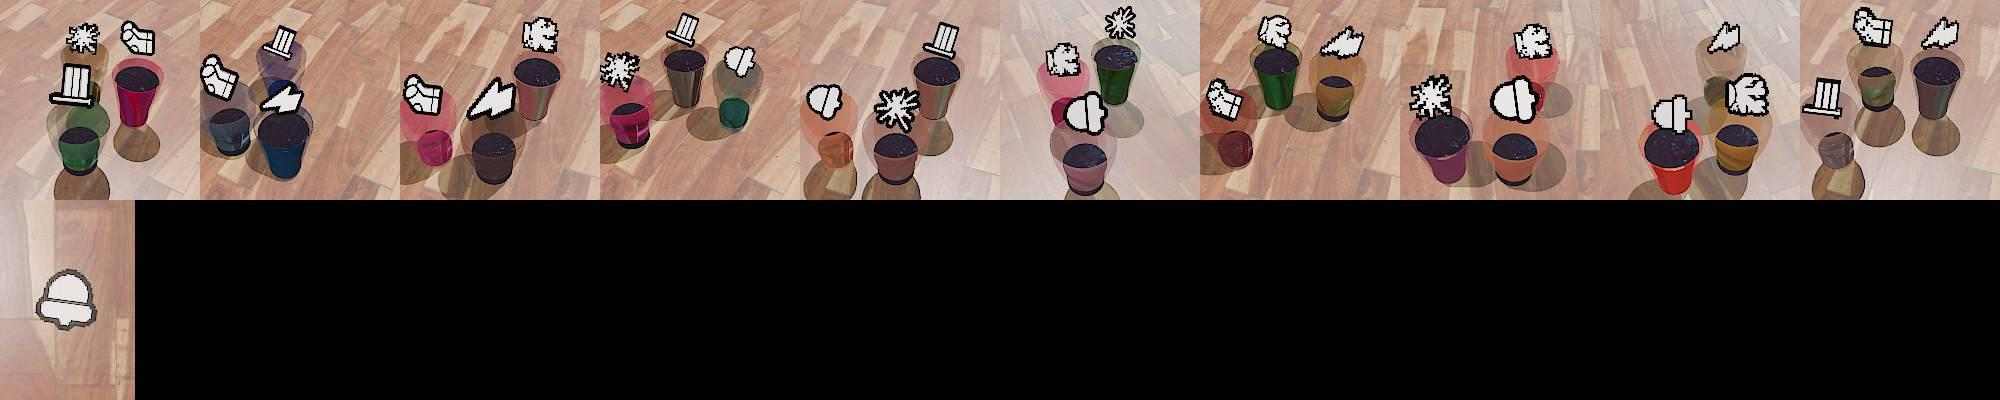icon: (33, 266, 98, 331), (1489, 75, 1540, 124), (872, 84, 923, 132), (48, 61, 97, 108), (464, 76, 517, 120), (1408, 73, 1453, 121), (1061, 89, 1107, 135), (1724, 73, 1770, 117), (200, 52, 240, 101), (403, 73, 444, 117), (1852, 5, 1894, 47), (1649, 94, 1693, 135), (598, 50, 642, 90), (259, 79, 306, 116), (1318, 25, 1366, 60), (1205, 76, 1242, 121), (520, 15, 560, 55), (922, 19, 960, 60), (1802, 76, 1843, 115), (1513, 23, 1554, 60), (805, 83, 843, 121), (1920, 15, 1959, 51), (1043, 41, 1082, 76), (120, 20, 156, 57), (1258, 14, 1293, 50), (263, 24, 298, 60), (666, 11, 700, 48), (1103, 5, 1136, 42), (64, 23, 99, 56), (723, 45, 758, 78), (1707, 22, 1741, 54)
